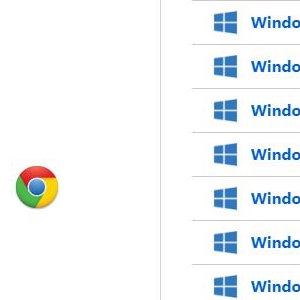chrome: (15, 165, 59, 210)
